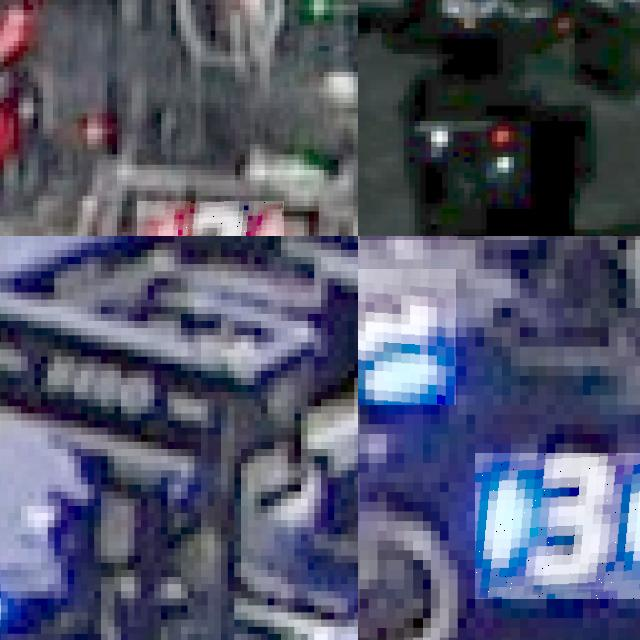B3: (475, 453, 640, 598), (358, 269, 457, 405)
R2: (136, 201, 284, 236)
